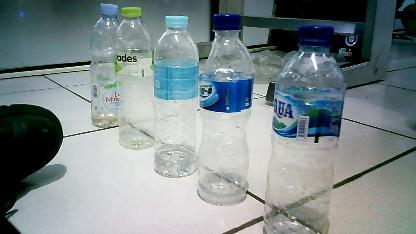Plastic Bottle: (263, 23, 346, 234), (197, 14, 255, 206), (154, 10, 200, 178), (116, 2, 156, 148), (89, 3, 128, 127)
